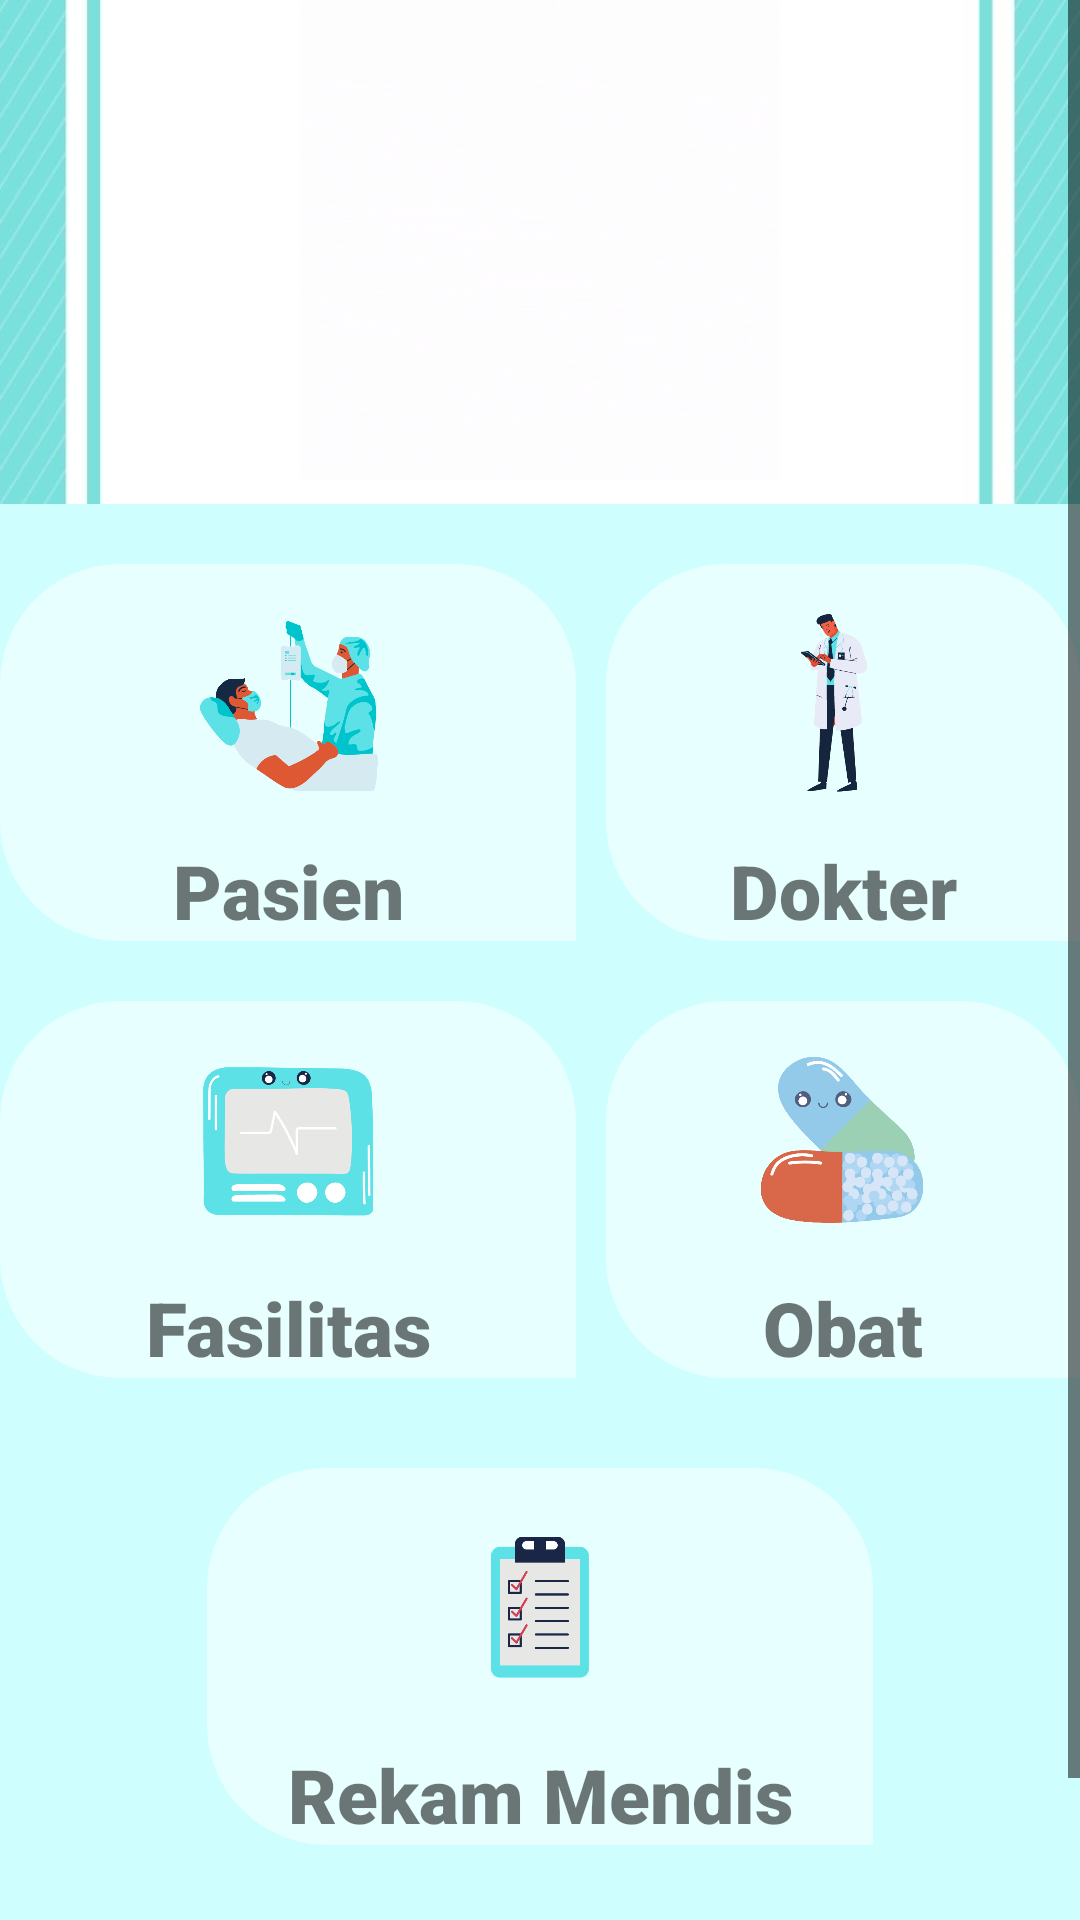

Screen size 1080w x 1920h. Icon name, then its box in pixels as (x1, y1, x2, y2):
list: (491, 1537, 589, 1678)
